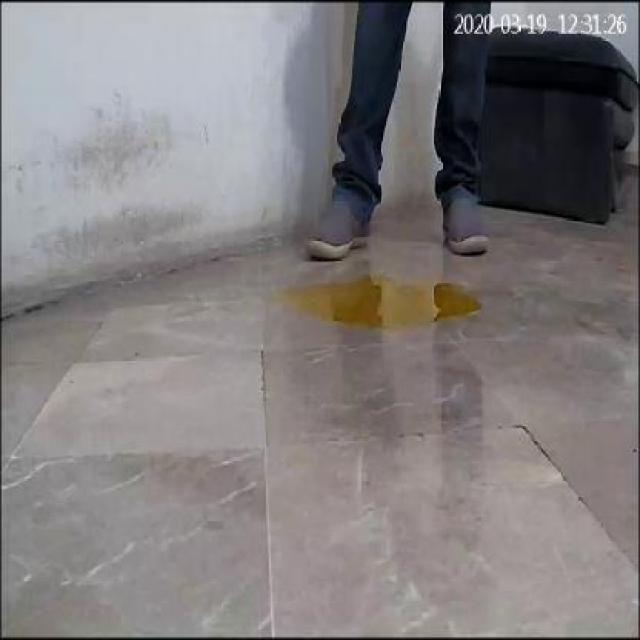spill: (278, 272, 480, 330)
